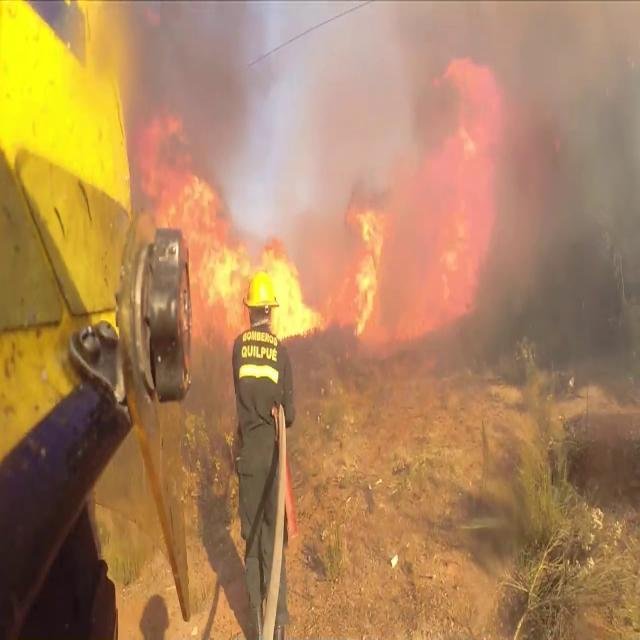Fire: (160, 166, 320, 342), (344, 198, 392, 338)
Smoke: (105, 0, 640, 244)
